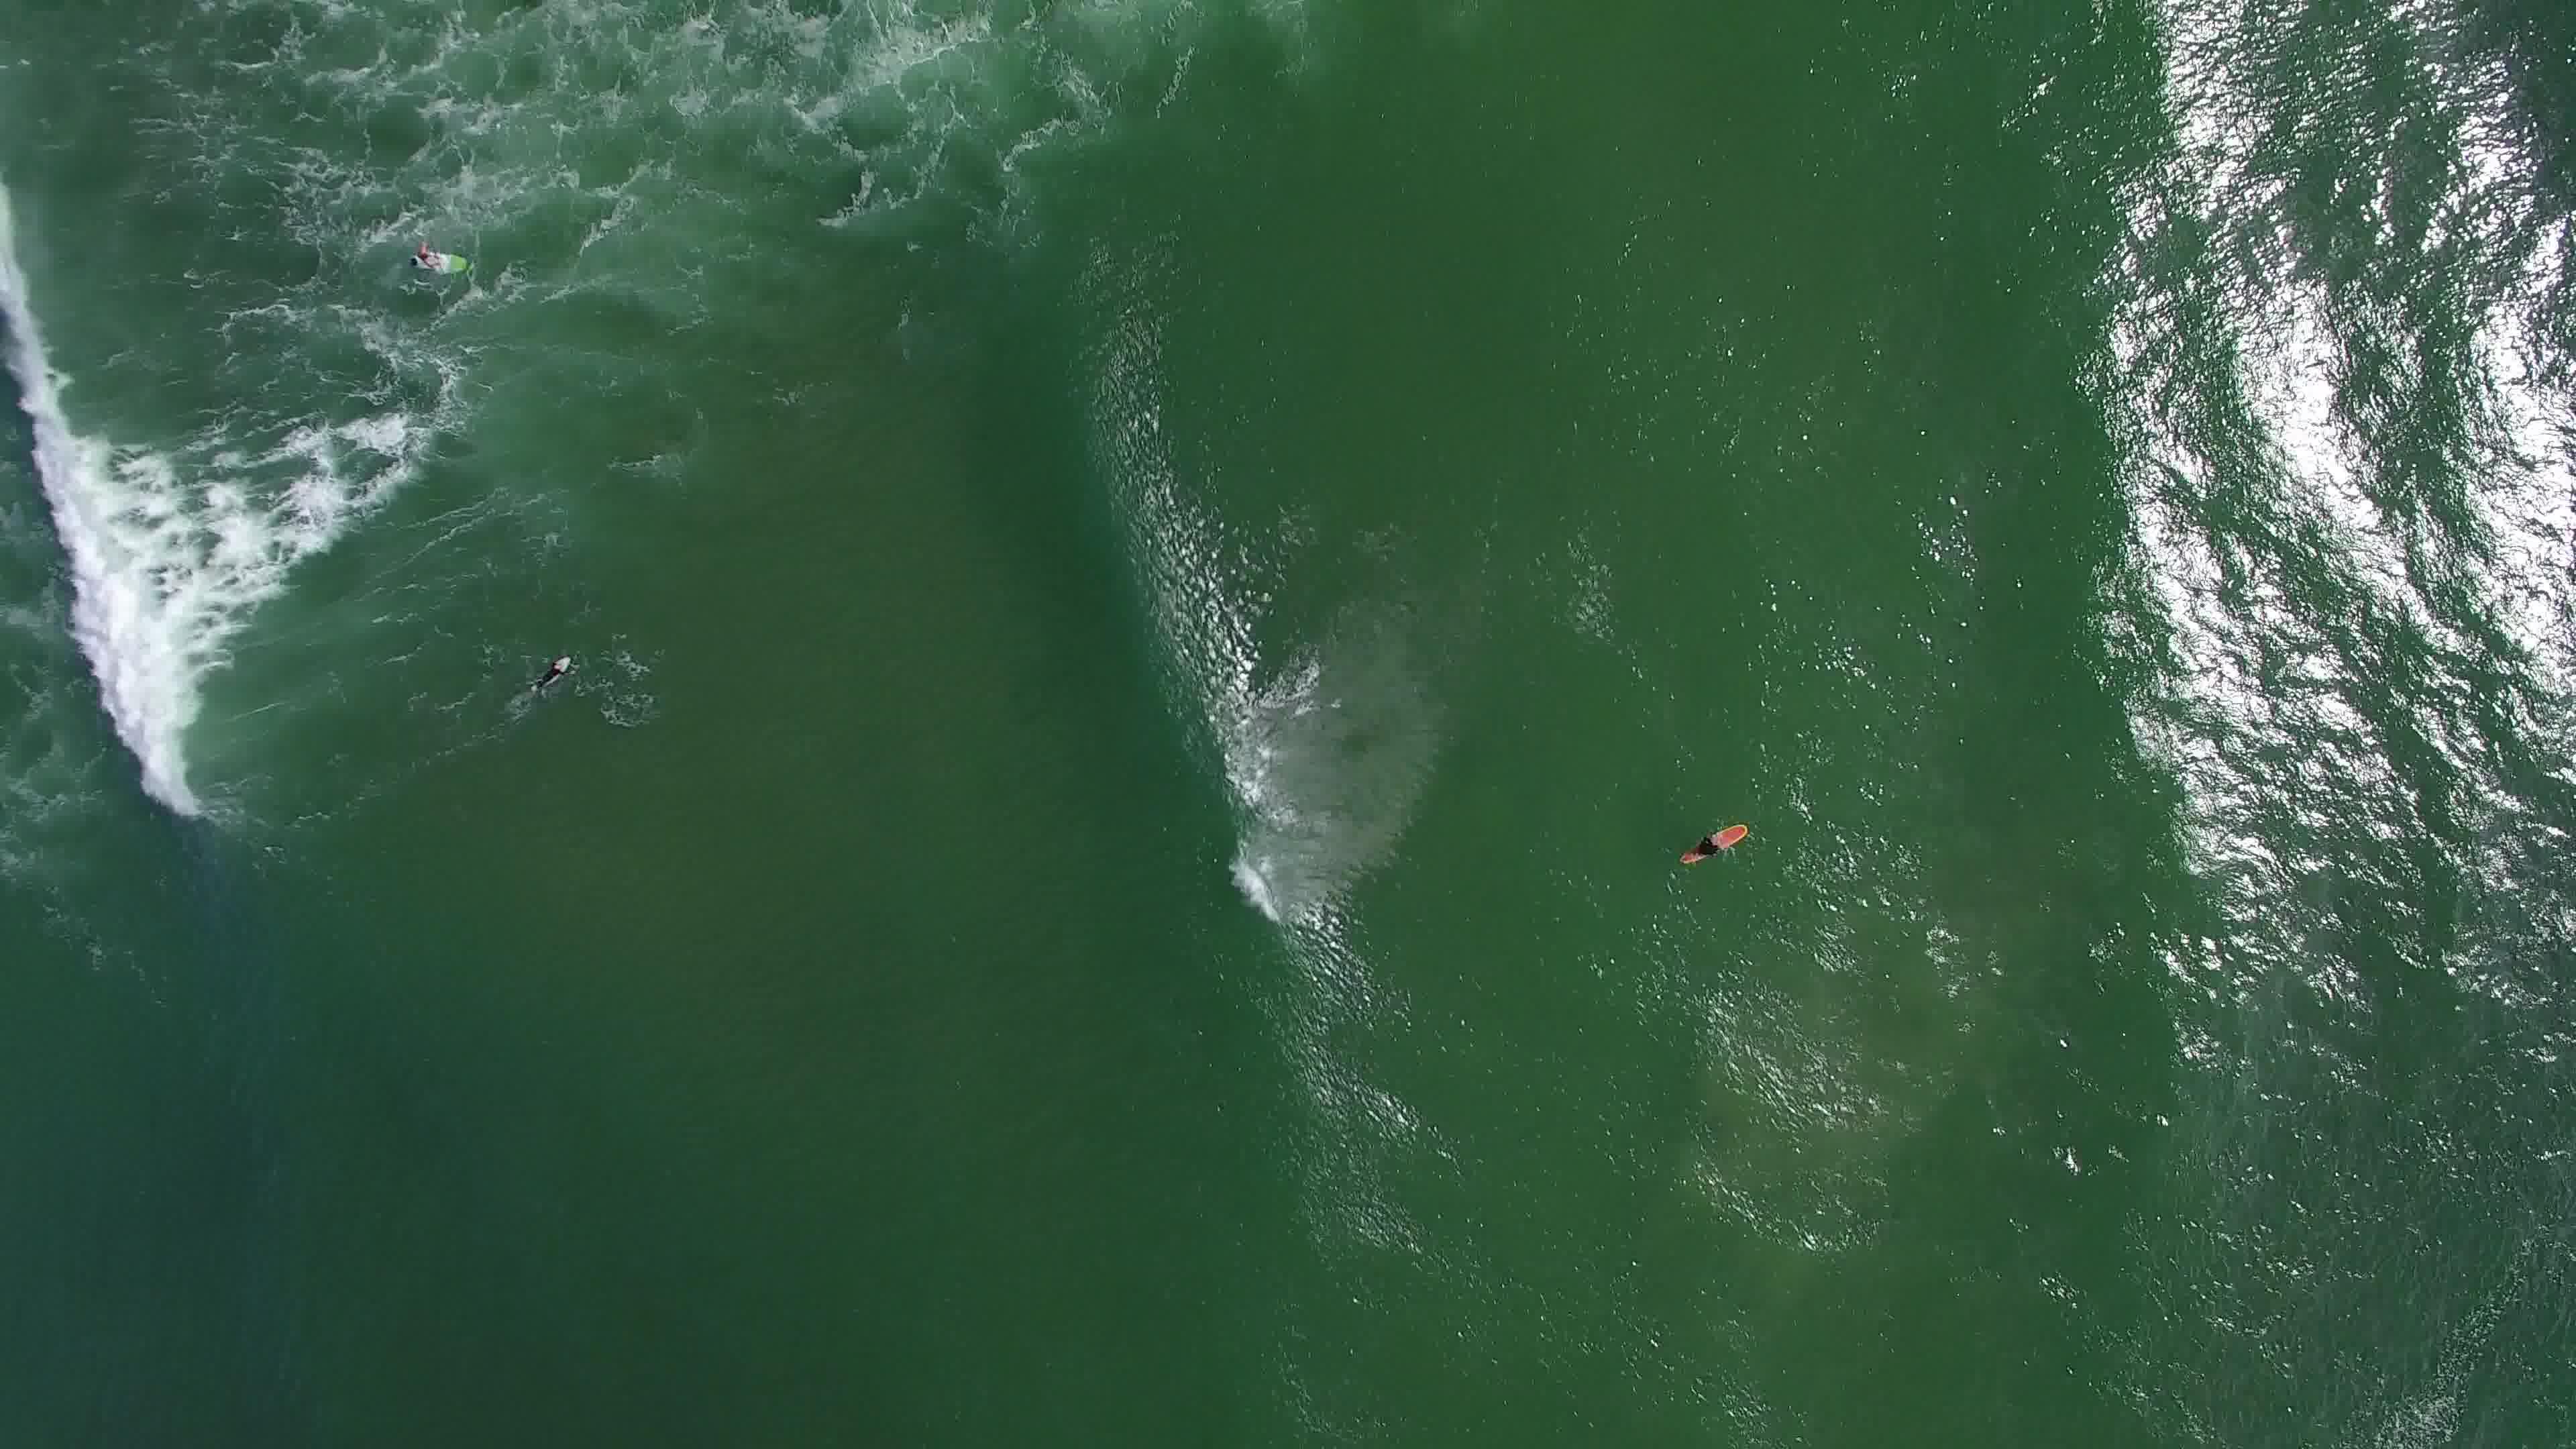surfer: (1683, 821, 1759, 878), (400, 237, 478, 278), (525, 649, 573, 692)
